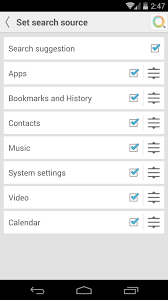searchIcon: (149, 13, 168, 34)
